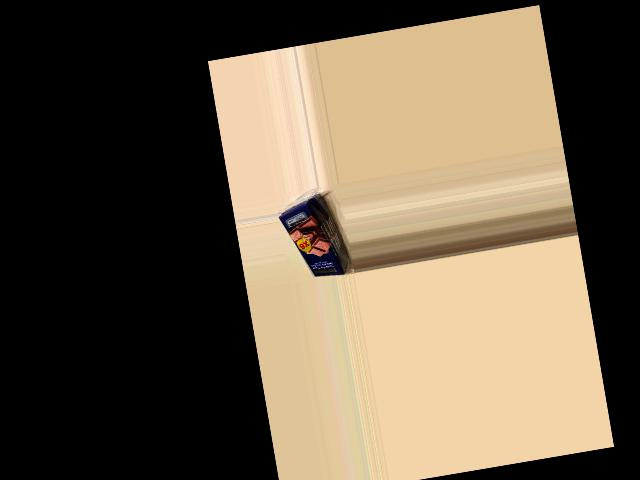chocolate: (276, 196, 349, 283)
